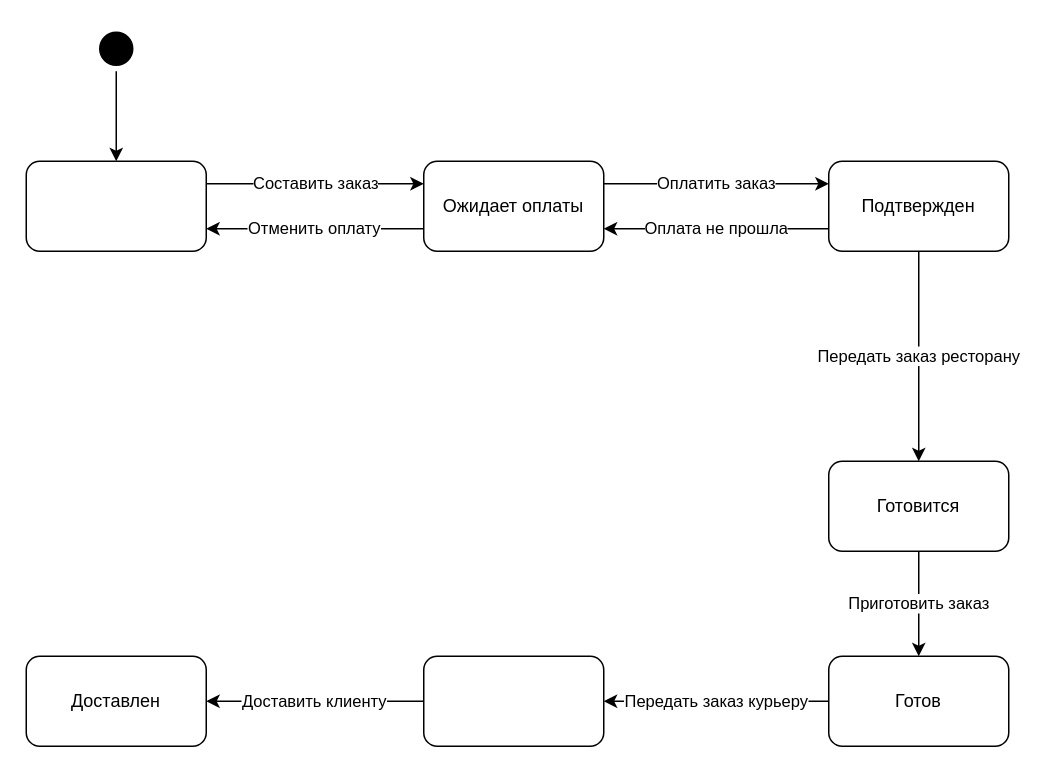
This 1046x773 diagram has some shape labels left out. The centre of each missing label's shape, as x and y in pixels:
Доставляется: the point at 513,700
Составляется: the point at 115,205
